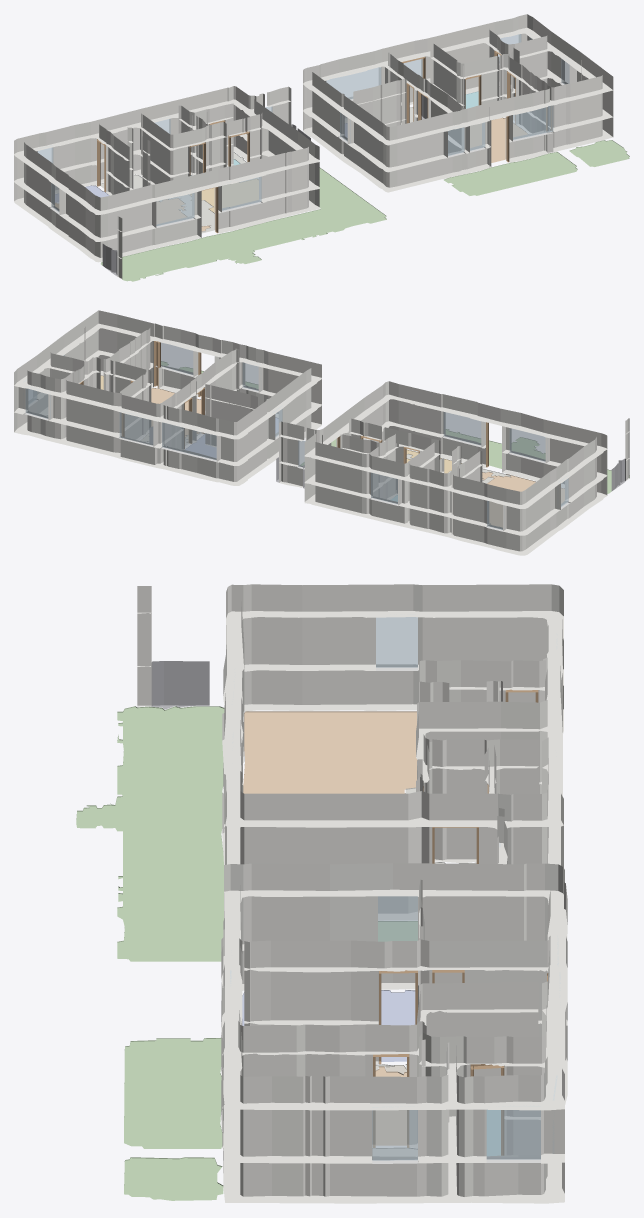
3 renders of one model, top to bottom at view 1: azimuth 30°, elevation 25°; view 2: azimuth 150°, elevation 25°; view 3: azimuth 270°, elevation 25°, orthographic. The views are drawn at different scales.
Visible parts, largest first — view 1: walls, floor_2_Outdoor, floor_1_Outdoor, window_26, floor_0_Outdoor, floor_5_Kitchen, floor_6_Living_Room, window_25, window_24, window_14, floor_21_Undefined, floor_7_Living_Room (+3 smaller); view 2: walls, window_14, floor_2_Outdoor, floor_7_Living_Room, window_25, window_24, window_15, window_26, window_18, window_17, railings, floor_6_Living_Room (+3 smaller); view 3: walls, floor_2_Outdoor, floor_7_Living_Room, floor_1_Outdoor, floor_0_Outdoor, window_19, railings, window_23, window_21, window_22, floor_9_Bed_Room, floor_6_Living_Room.
Part boxes in pixels (left/top/right/bottom): walls: left=14, top=14, right=613, bottom=278; floor_2_Outdoor: left=101, top=167, right=386, bottom=281; floor_1_Outdoor: left=444, top=152, right=577, bottom=195; window_26: left=513, top=105, right=553, bottom=139; floor_0_Outdoor: left=569, top=140, right=629, bottom=166; floor_5_Kitchen: left=190, top=179, right=258, bottom=212; floor_6_Living_Room: left=470, top=117, right=527, bottom=162; window_25: left=222, top=177, right=261, bottom=210; window_24: left=156, top=193, right=194, bottom=226; window_14: left=326, top=67, right=381, bottom=99; floor_21_Undefined: left=100, top=174, right=214, bottom=233; floor_7_Living_Room: left=55, top=198, right=210, bottom=231; walls: left=14, top=310, right=629, bottom=555; window_14: left=162, top=422, right=216, bottom=459; floor_2_Outdoor: left=300, top=429, right=629, bottom=493; floor_7_Living_Room: left=482, top=472, right=564, bottom=527; window_25: left=443, top=412, right=481, bottom=445; window_24: left=509, top=428, right=545, bottom=461; window_15: left=119, top=412, right=153, bottom=445; window_26: left=161, top=342, right=193, bottom=374; window_18: left=371, top=472, right=397, bottom=503; window_17: left=25, top=386, right=50, bottom=418; railings: left=149, top=426, right=625, bottom=491; floor_6_Living_Room: left=151, top=388, right=201, bottom=436; walls: left=137, top=584, right=567, bottom=1203; floor_2_Outdoor: left=76, top=706, right=417, bottom=961; floor_7_Living_Room: left=243, top=711, right=416, bottom=793; floor_1_Outdoor: left=124, top=1038, right=222, bottom=1148; floor_0_Outdoor: left=124, top=1157, right=223, bottom=1200; window_19: left=486, top=1109, right=540, bottom=1159; railings: left=151, top=661, right=209, bottom=709; window_23: left=372, top=1107, right=417, bottom=1160; window_21: left=376, top=617, right=417, bottom=667; window_22: left=378, top=896, right=417, bottom=941; floor_9_Bed_Room: left=242, top=990, right=415, bottom=1061; floor_6_Living_Room: left=375, top=1066, right=406, bottom=1145.
Size of the model in its own units: 24.14 by 2.72 by 10.04.
